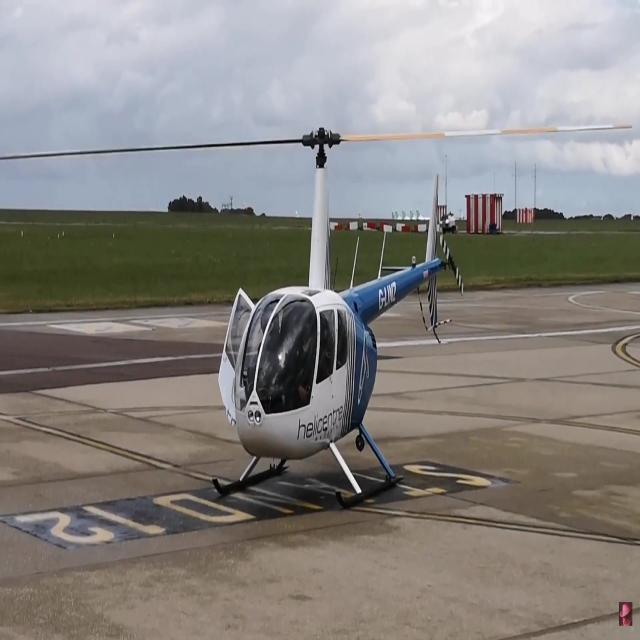CIV_HELO: (211, 125, 461, 514)
